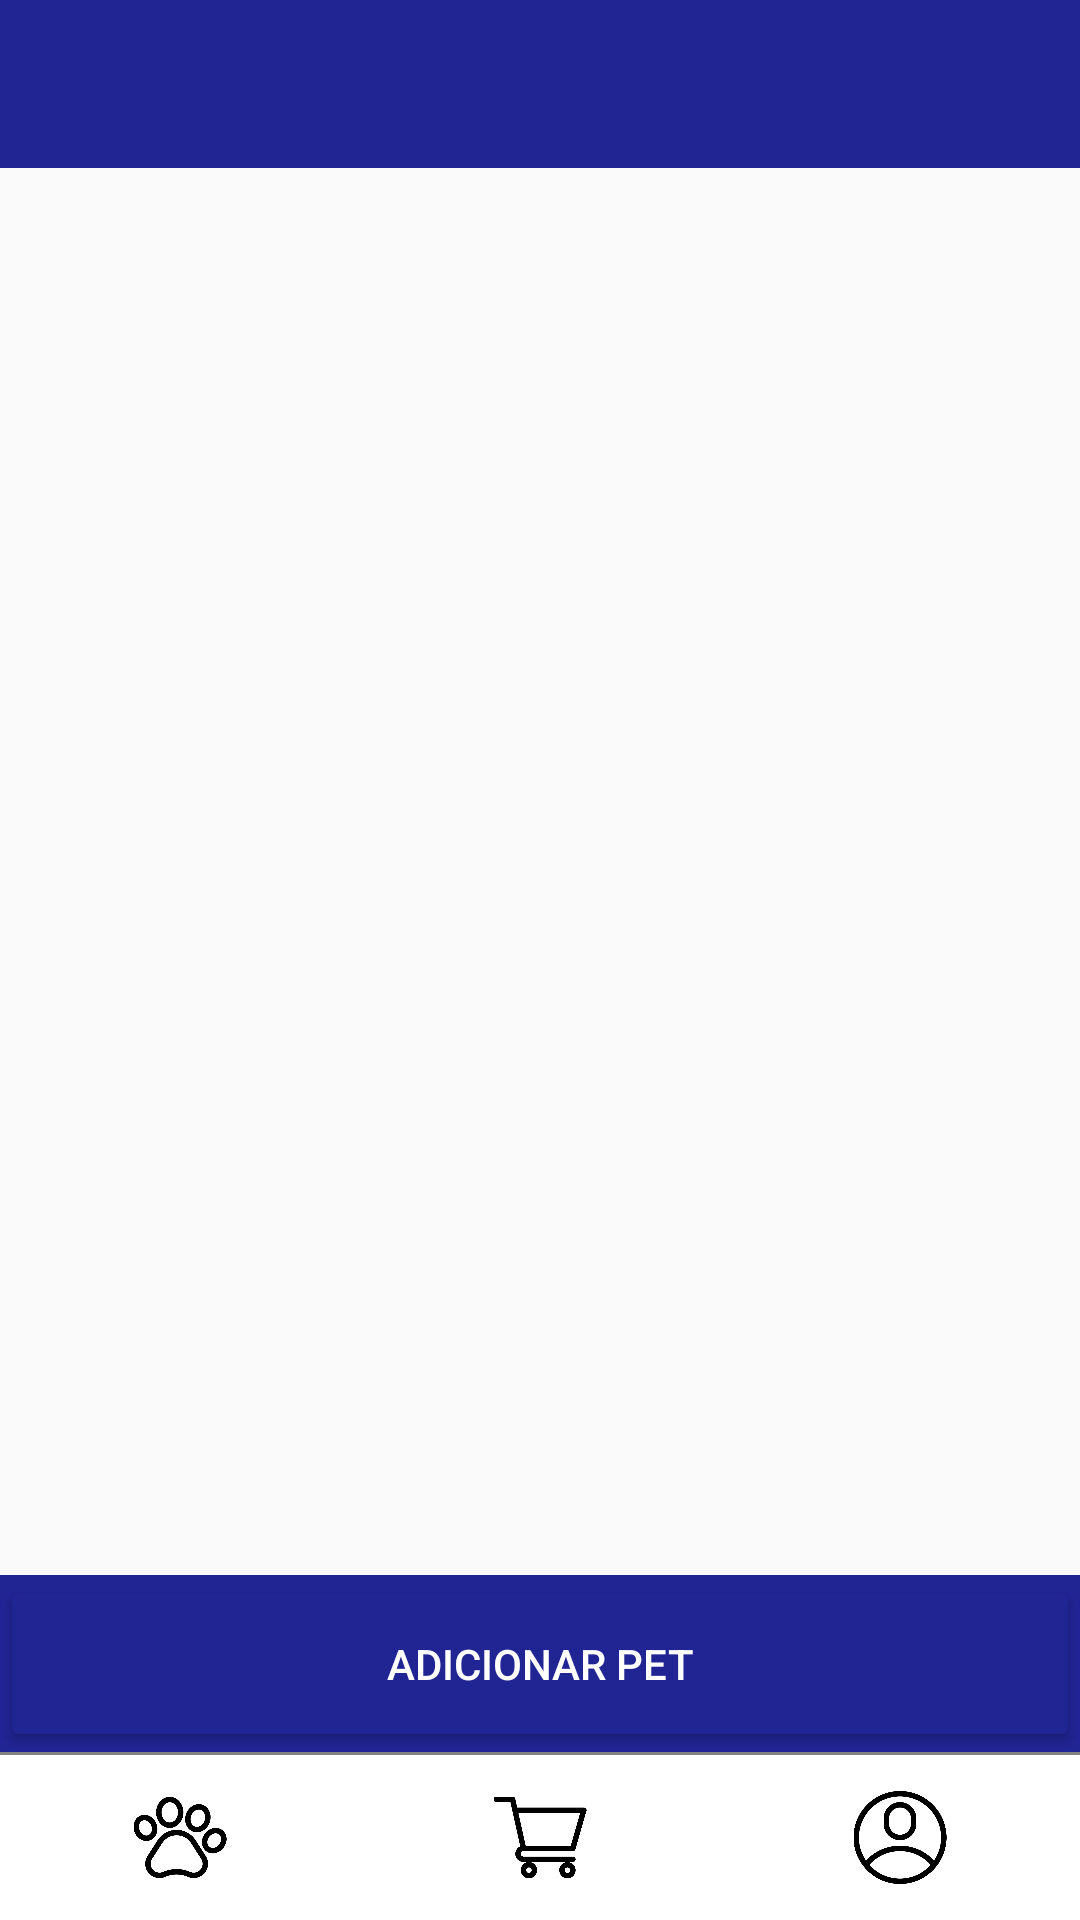

Named icons in this screenshot (1080×1920) and their bounding boxes, {"x1": x1, "y1": y1, "x2": x2, "y2": y2}:
carrinho preto: {"x1": 494, "y1": 1797, "x2": 587, "y2": 1878}
pet preto: {"x1": 134, "y1": 1797, "x2": 227, "y2": 1878}
usuario preto: {"x1": 854, "y1": 1791, "x2": 947, "y2": 1884}
